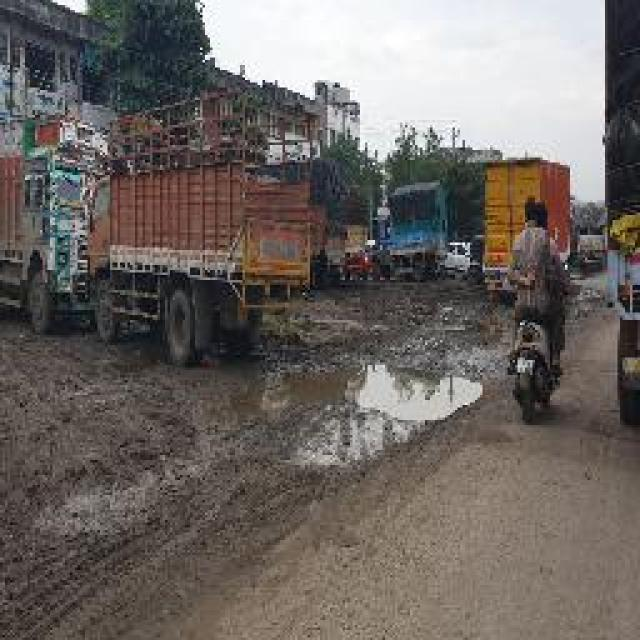stagnation: (325, 362, 491, 428)
